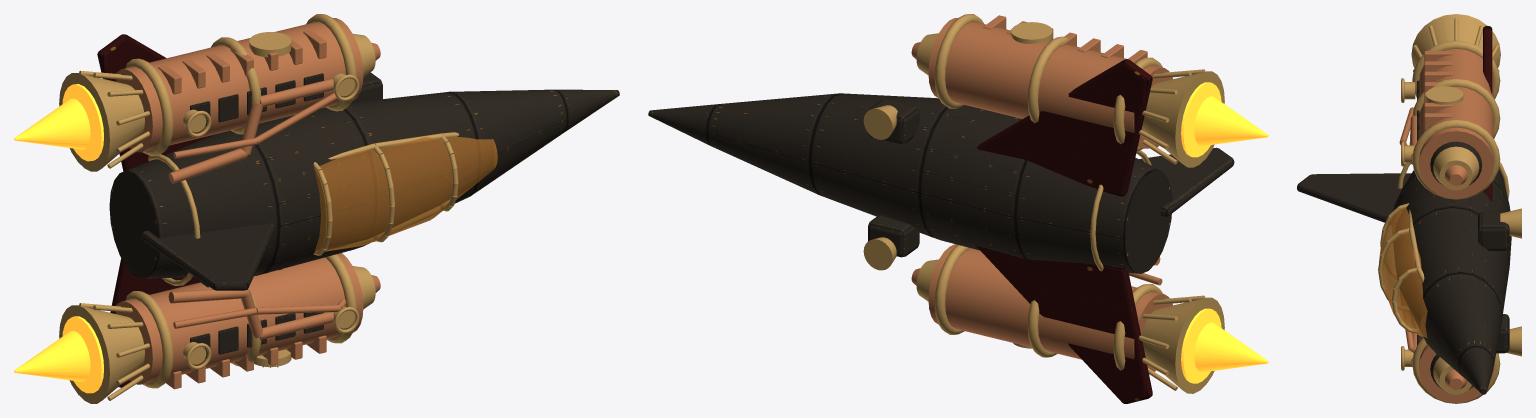
Rendered from rocket-high.glb.
3 views of the same model, side by side, from view 1: azimuth 30°, elevation 25°; view 2: azimuth 150°, elevation 25°; view 3: azimuth 270°, elevation 25° (orthographic). The views are drawn at different scales.
Parts seen in each view (by area): view 1: rocket-root / Riveted iron, rocket-root / Copper feed lines, rocket-root / Machined brass, rocket-root / Amber glazing, rocket-root / Burgundy enamel, rocket-root / Furnace glow, Engine exhaust.001 / Furnace glow, Engine exhaust / Furnace glow; view 2: rocket-root / Riveted iron, rocket-root / Copper feed lines, rocket-root / Burgundy enamel, rocket-root / Machined brass, rocket-root / Furnace glow, Engine exhaust / Furnace glow, Engine exhaust.001 / Furnace glow; view 3: rocket-root / Riveted iron, rocket-root / Machined brass, rocket-root / Copper feed lines, rocket-root / Amber glazing, rocket-root / Burgundy enamel.
Part boxes in pixels (<box>): rocket-root / Riveted iron: <box>109,72,619,367</box>; rocket-root / Copper feed lines: <box>116,18,380,389</box>; rocket-root / Machined brass: <box>59,14,458,403</box>; rocket-root / Amber glazing: <box>314,137,497,252</box>; rocket-root / Burgundy enamel: <box>97,34,213,387</box>; rocket-root / Furnace glow: <box>62,84,103,393</box>; Engine exhaust.001 / Furnace glow: <box>14,98,90,149</box>; Engine exhaust / Furnace glow: <box>14,331,90,381</box>; rocket-root / Riveted iron: <box>648,93,1234,273</box>; rocket-root / Copper feed lines: <box>911,15,1172,374</box>; rocket-root / Burgundy enamel: <box>976,59,1152,403</box>; rocket-root / Machined brass: <box>863,14,1224,393</box>; rocket-root / Furnace glow: <box>1181,82,1221,383</box>; Engine exhaust / Furnace glow: <box>1194,322,1268,372</box>; Engine exhaust.001 / Furnace glow: <box>1194,96,1268,145</box>; rocket-root / Riveted iron: <box>1297,80,1511,394</box>; rocket-root / Machined brass: <box>1378,14,1521,403</box>; rocket-root / Copper feed lines: <box>1399,48,1493,403</box>; rocket-root / Amber glazing: <box>1379,207,1427,338</box>; rocket-root / Burgundy enamel: <box>1483,26,1492,201</box>.
Bounding box in the file's own units: 1.7 × 0.9277 × 0.6102.
8 materials, 2 textured.
